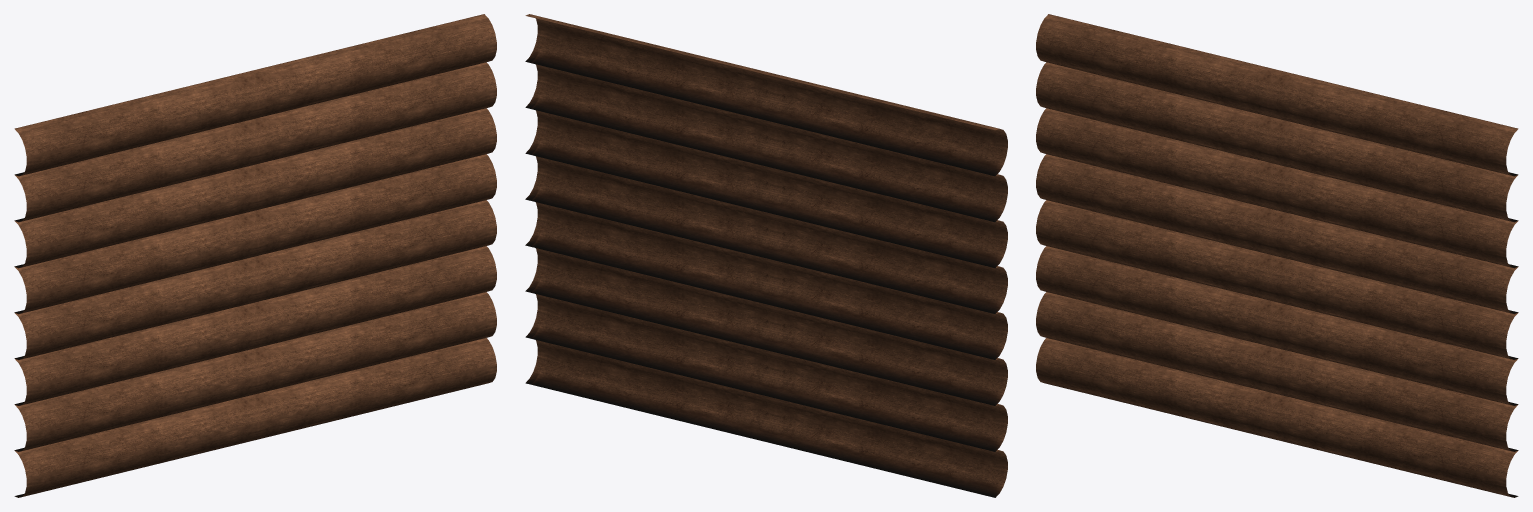
File: LogMockFacadeWall.DAE
3 renders of one model, left to right at view 1: azimuth 30°, elevation 25°; view 2: azimuth 150°, elevation 25°; view 3: azimuth 330°, elevation 25°, orthographic.
Visible parts, largest first — view 1: LogMockFacade; view 2: LogMockFacade; view 3: LogMockFacade.
Part boxes in pixels (bbox=[...]): LogMockFacade: bbox=[14, 14, 496, 497]; LogMockFacade: bbox=[525, 14, 1007, 497]; LogMockFacade: bbox=[1036, 14, 1518, 497].
Size of the model in its own units: 4 by 2.99 by 0.1839.
1 material, 1 textured.
